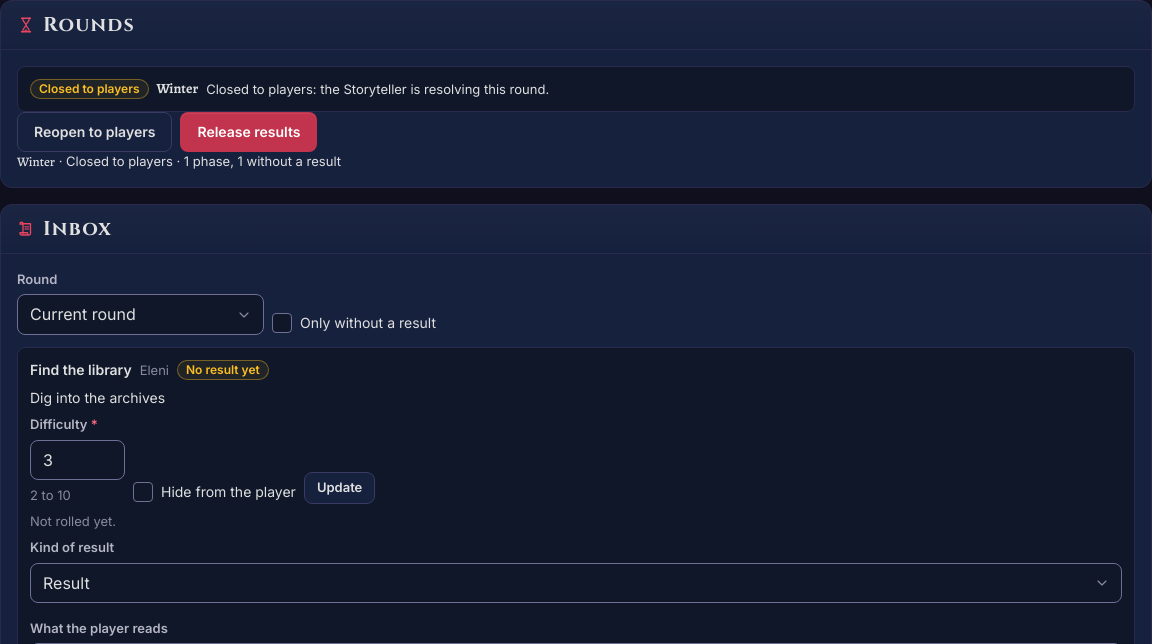
it: storyteller view › release with unresolved phases asks, then forces
Click the button "Release results": (249, 132) x1=180 y1=112 x2=317 y2=152
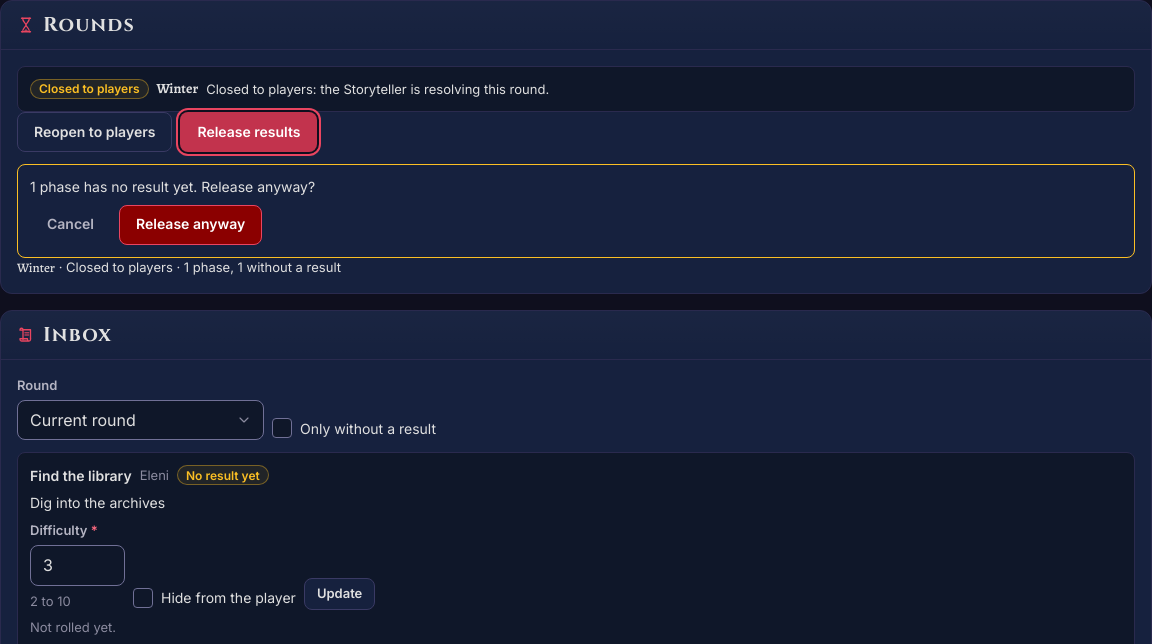
Check: the text "1 phase has no result yet. Release anyway?" is shown, box x1=30 y1=178 x2=315 y2=195
Click the button "Release anyway": (191, 225) x1=119 y1=205 x2=262 y2=245
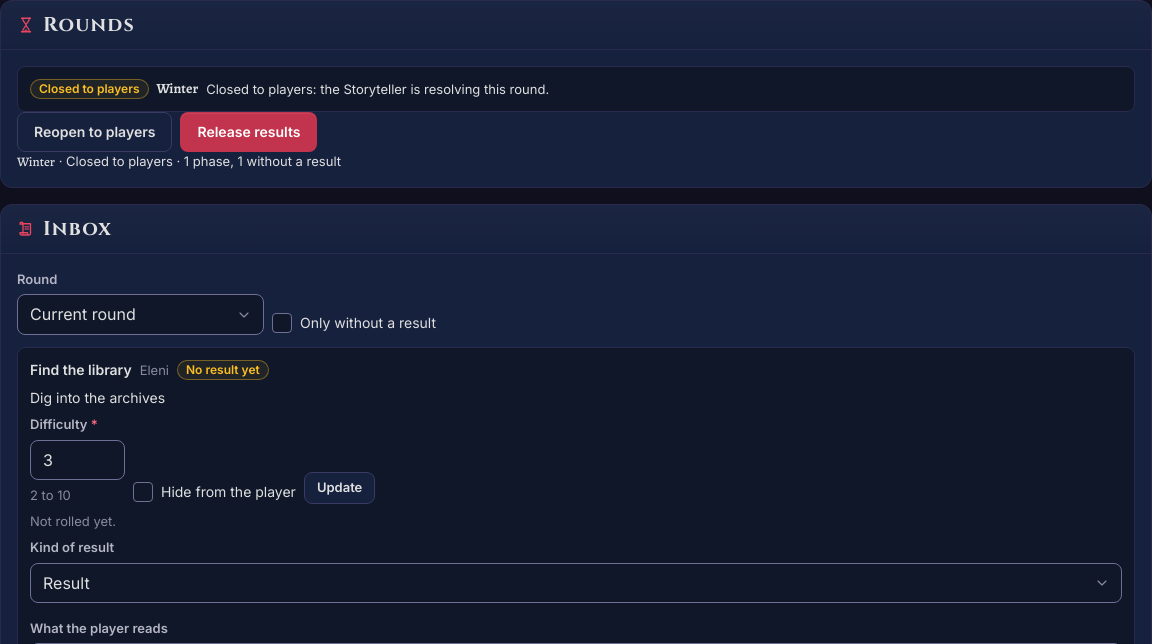
Check: the text "1 phase has no result yet. Release anyway?" is gone
